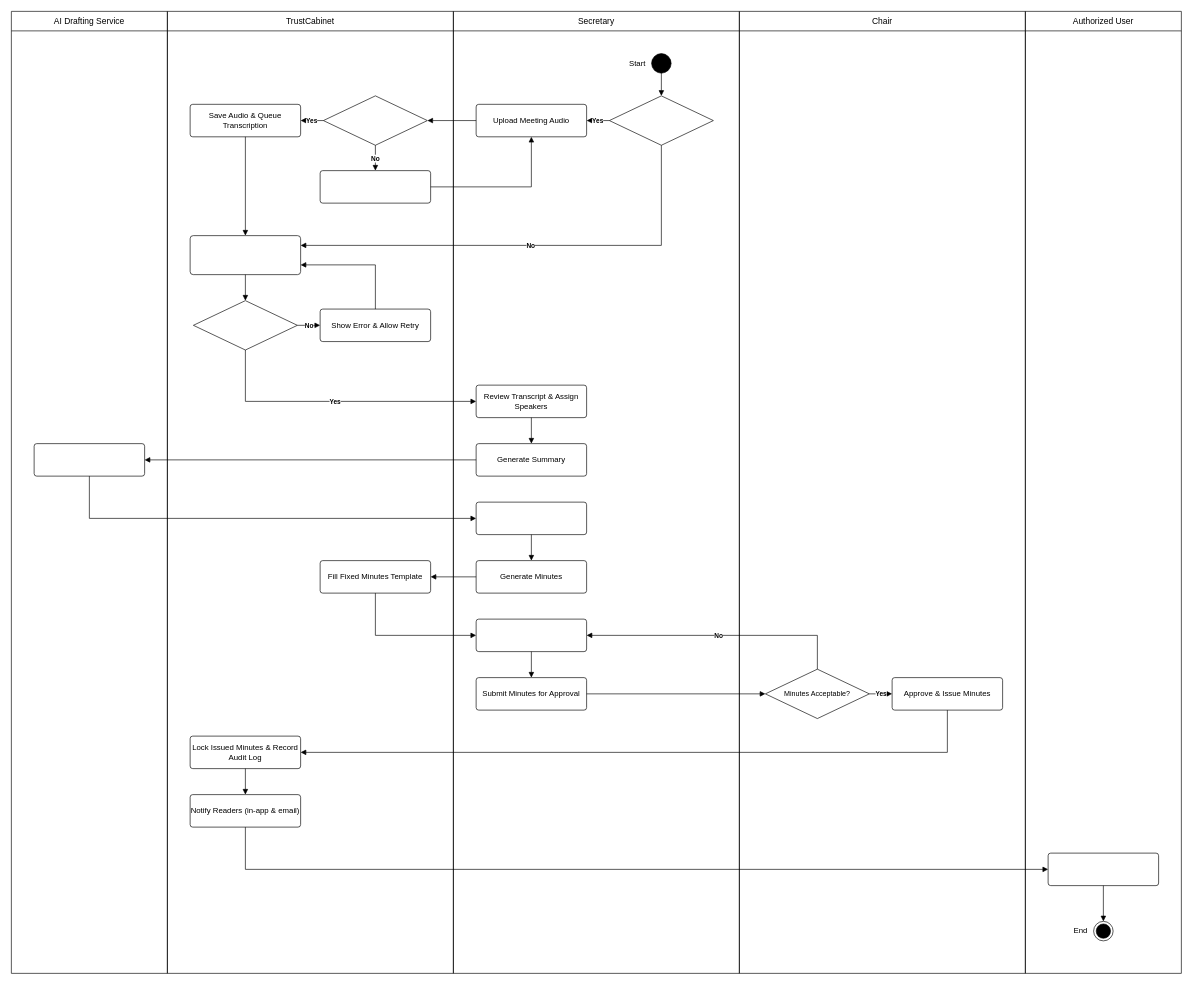
Some shapes in this 1193 by 985 pixel diagram are drawn without their labels. The shapes that lost their labels are listed below. From the top down, each one's centre as x and y in pixels, then its label:
the point at 375,120: Audio File Valid?
the point at 661,120: Audio File to Upload?
the point at 375,186: Show Error
the point at 245,255: Transcribe Audio (speakers, Voice ID)
the point at 245,325: Processing Successful?
the point at 89,459: Write Three-Section Draft
the point at 531,518: Review, Edit & Approve Summary
the point at 531,635: Review & Edit Minutes
the point at 1103,869: Access Meeting Records
